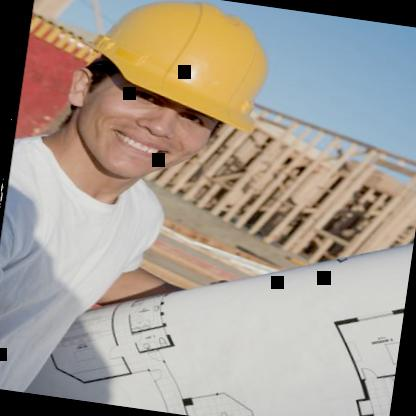helmet: (58, 0, 300, 201)
